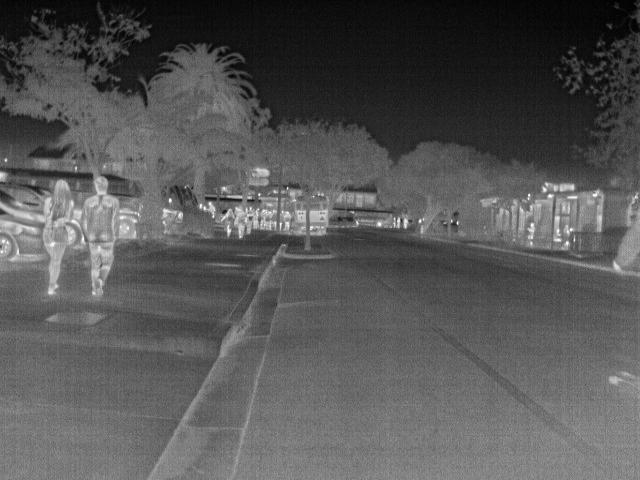car: (1, 204, 46, 262), (6, 179, 52, 208), (115, 204, 141, 240), (162, 204, 184, 234)
person: (80, 175, 118, 299), (43, 175, 77, 299), (219, 208, 237, 237), (234, 204, 248, 238), (269, 209, 282, 233), (526, 220, 538, 246), (282, 210, 294, 230), (551, 226, 565, 241), (395, 214, 403, 228)
